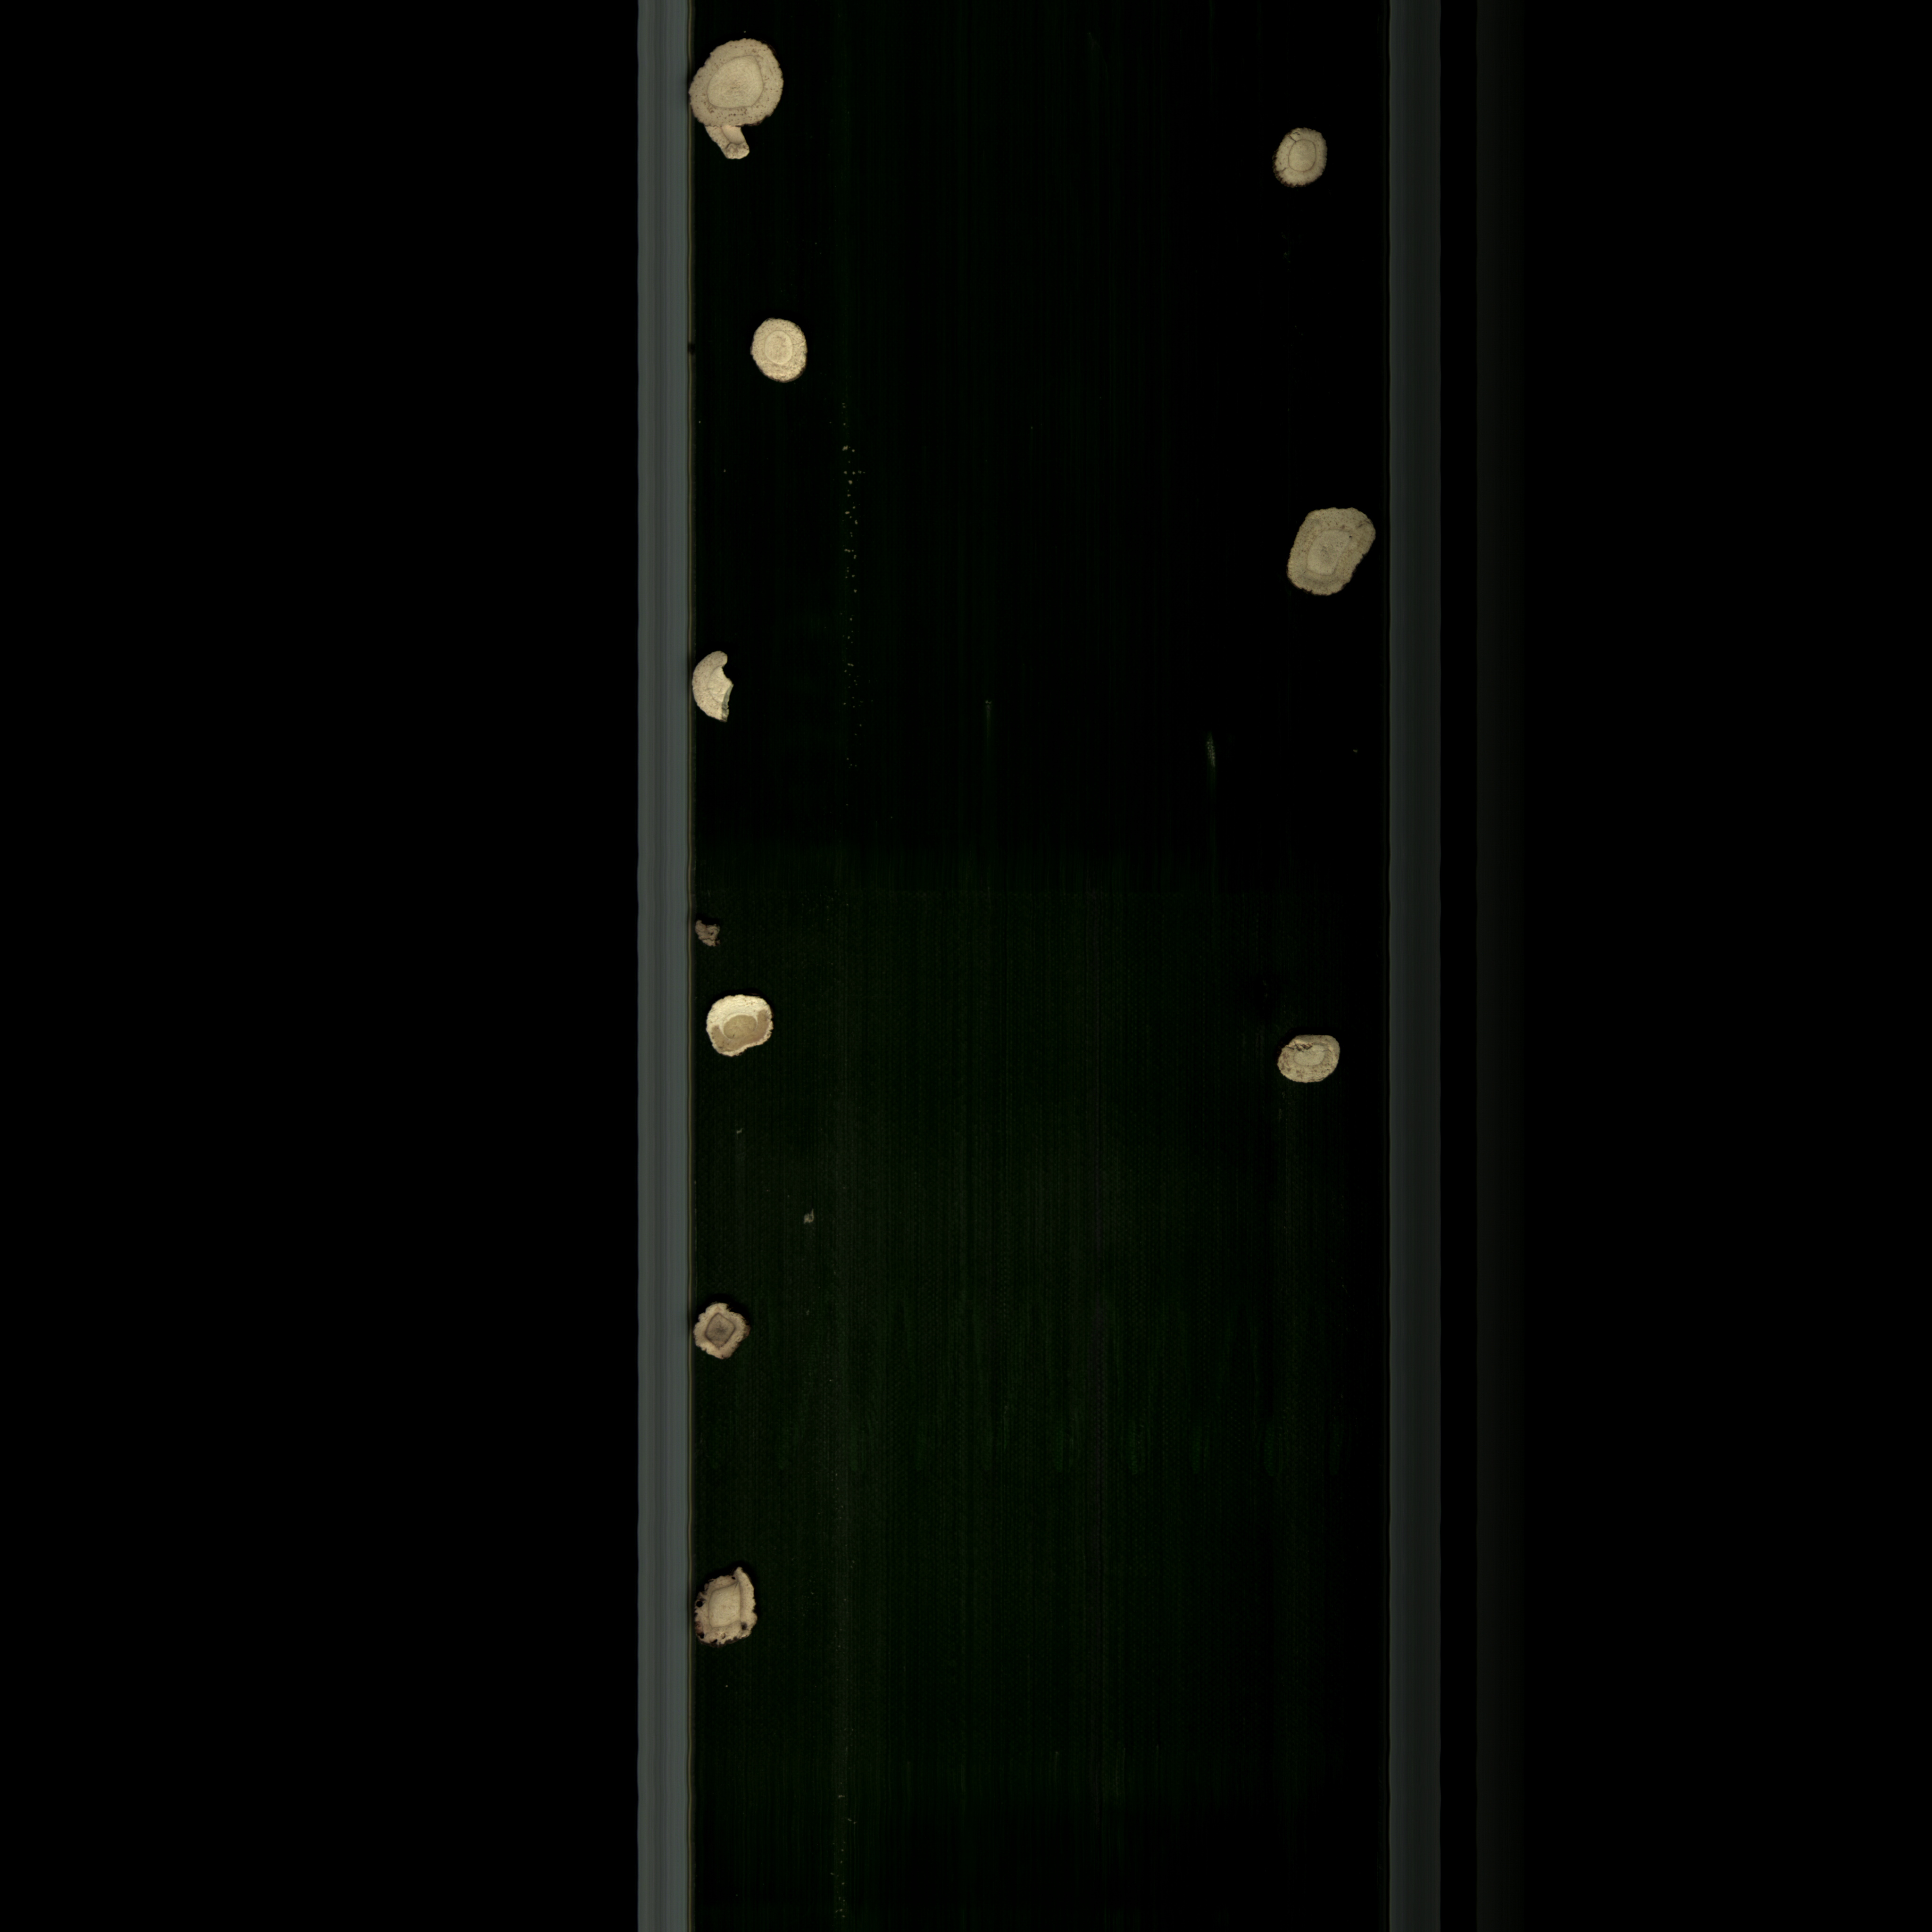debris: (688, 642, 741, 732)
distortion: (686, 1571, 777, 1651)
dreg: (690, 918, 729, 955)
moldy: (1284, 502, 1380, 600), (702, 987, 791, 1070), (1267, 122, 1341, 195), (1270, 1031, 1357, 1092), (690, 1297, 755, 1368)
